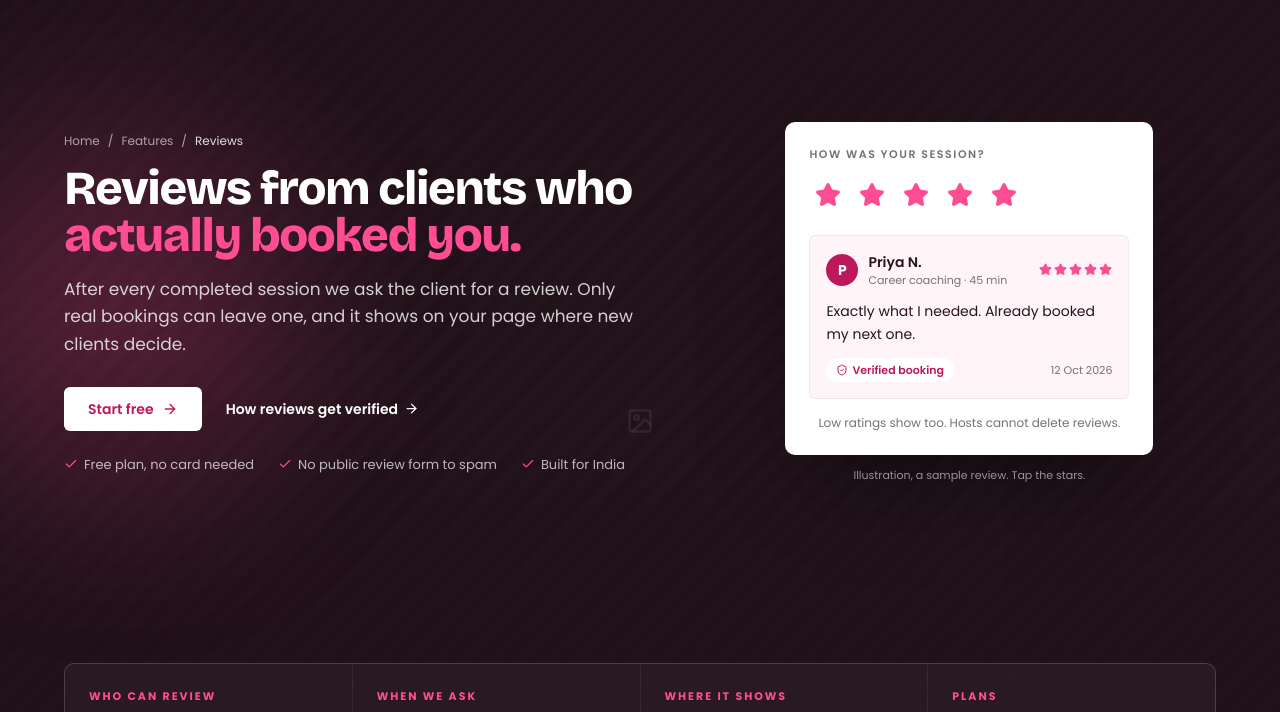
Reviews feature page › updates the sample review when a star is tapped
The image size is (1280, 712).
Expected: the text "Exactly what I needed. Already booked my next one." is shown, [826,300,1112,346]
Step 1. Click the button named "Rate 2 stars" → (872, 195), box [853,175,891,215]
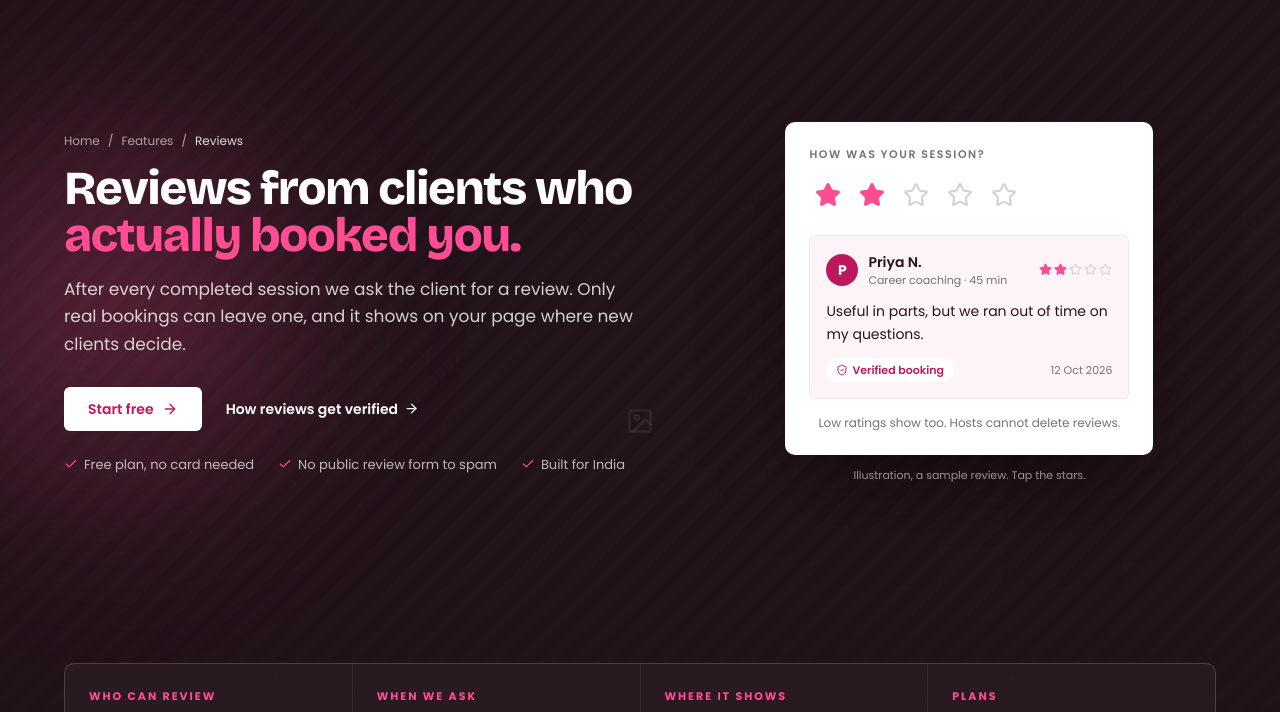
Expected: the text "Useful in parts, but we ran out of time on my questions." is shown, [826,300,1112,346]
